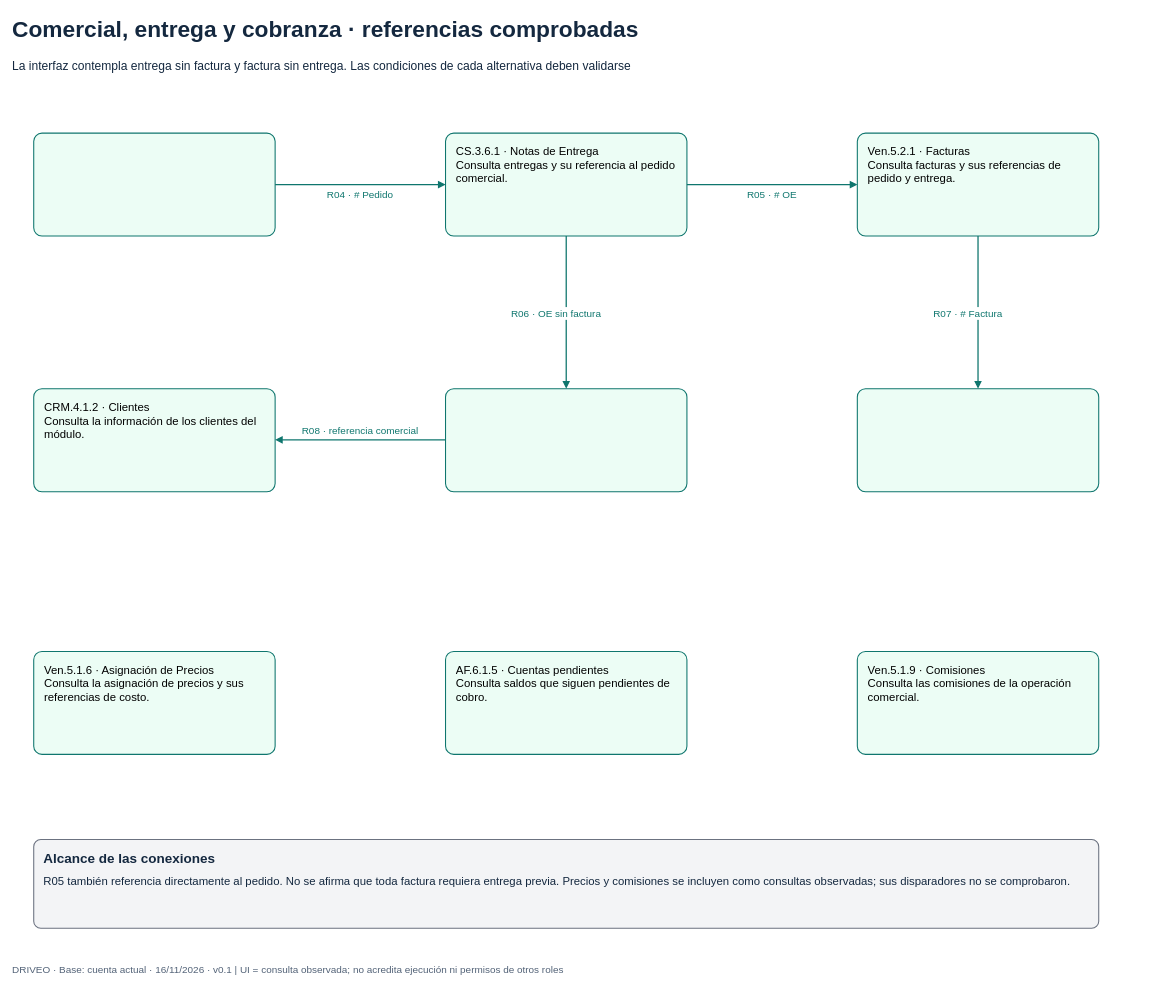
Some shapes in this 1174 by 997 pixel diagram are drawn without their labels. Here are the shapes that lost their labels. From the top down, the box of each, then its label:
(33, 132, 275, 236): Ven.5.1.7 · Pedidos Consulta pedidos, clientes y estado de atención.
(445, 388, 687, 492): AF.6.1.2 · Por facturar Identifica entregas que todavía no tienen factura.
(856, 388, 1099, 492): AF.6.1.3 · Abonos Consulta los abonos y saldos asociados a facturas.
